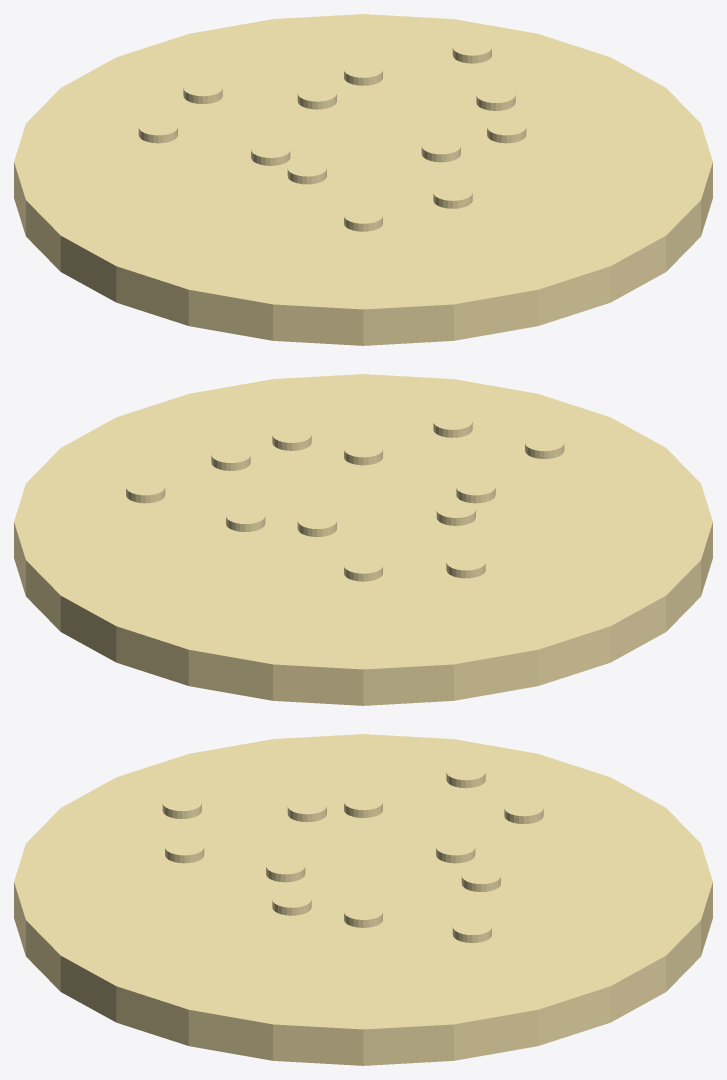
Rendered from cheese.glb.
3 views of the same model, one above another, from view 1: azimuth 30°, elevation 25°; view 2: azimuth 150°, elevation 25°; view 3: azimuth 270°, elevation 25° (orthographic).
Parts seen in each view (by area): view 1: CheeseLayer, CheeseBubble00, CheeseBubble06, CheeseBubble03, CheeseBubble04, CheeseBubble05, CheeseBubble09, CheeseBubble01, CheeseBubble07, CheeseBubble10, CheeseBubble11, CheeseBubble02 (+1 smaller); view 2: CheeseLayer, CheeseBubble00, CheeseBubble11, CheeseBubble05, CheeseBubble06, CheeseBubble07, CheeseBubble02, CheeseBubble03, CheeseBubble08, CheeseBubble09, CheeseBubble01, CheeseBubble04 (+1 smaller); view 3: CheeseLayer, CheeseBubble01, CheeseBubble05, CheeseBubble02, CheeseBubble03, CheeseBubble04, CheeseBubble08, CheeseBubble11, CheeseBubble07, CheeseBubble10, CheeseBubble09, CheeseBubble06 (+1 smaller).
Part boxes in pixels (left/top/right/bottom): CheeseLayer: left=14, top=14, right=712, bottom=345; CheeseBubble00: left=476, top=86, right=515, bottom=110; CheeseBubble06: left=251, top=141, right=290, bottom=165; CheeseBubble03: left=297, top=85, right=336, bottom=109; CheeseBubble04: left=183, top=79, right=222, bottom=103; CheeseBubble05: left=138, top=118, right=177, bottom=143; CheeseBubble09: left=433, top=184, right=472, bottom=208; CheeseBubble01: left=452, top=39, right=491, bottom=63; CheeseBubble07: left=287, top=160, right=326, bottom=184; CheeseBubble10: left=421, top=137, right=460, bottom=162; CheeseBubble11: left=487, top=118, right=526, bottom=143; CheeseBubble02: left=344, top=61, right=382, bottom=85; CheeseLayer: left=14, top=374, right=712, bottom=705; CheeseBubble00: left=211, top=446, right=250, bottom=470; CheeseBubble11: left=272, top=426, right=311, bottom=450; CheeseBubble05: left=446, top=554, right=485, bottom=578; CheeseBubble06: left=436, top=501, right=475, bottom=525; CheeseBubble07: left=456, top=478, right=495, bottom=503; CheeseBubble02: left=226, top=507, right=265, bottom=531; CheeseBubble03: left=297, top=512, right=336, bottom=536; CheeseBubble08: left=525, top=434, right=564, bottom=458; CheeseBubble09: left=433, top=413, right=472, bottom=437; CheeseBubble01: left=126, top=478, right=165, bottom=503; CheeseBubble04: left=344, top=557, right=382, bottom=581; CheeseLayer: left=14, top=734, right=712, bottom=1065; CheeseBubble01: left=452, top=918, right=491, bottom=942; CheeseBubble05: left=446, top=763, right=485, bottom=788; CheeseBubble02: left=461, top=867, right=500, bottom=891; CheeseBubble03: left=436, top=838, right=475, bottom=863; CheeseBubble04: left=504, top=799, right=543, bottom=823; CheeseBubble08: left=162, top=794, right=201, bottom=818; CheeseBubble11: left=272, top=891, right=311, bottom=915; CheeseBubble07: left=287, top=797, right=326, bottom=822; CheeseBubble10: left=266, top=857, right=305, bottom=882; CheeseBubble09: left=165, top=838, right=204, bottom=863; CheeseBubble06: left=344, top=793, right=382, bottom=817.
Bounding box in the file's own units: 1.6 × 0.1796 × 1.6.
